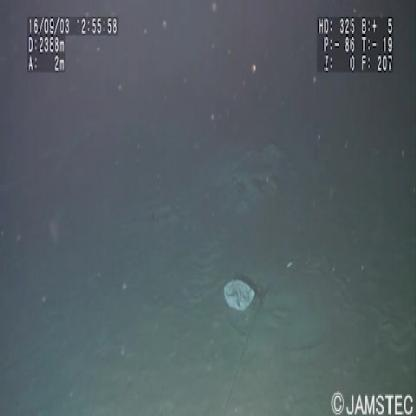Rác: (219, 270, 261, 319)
